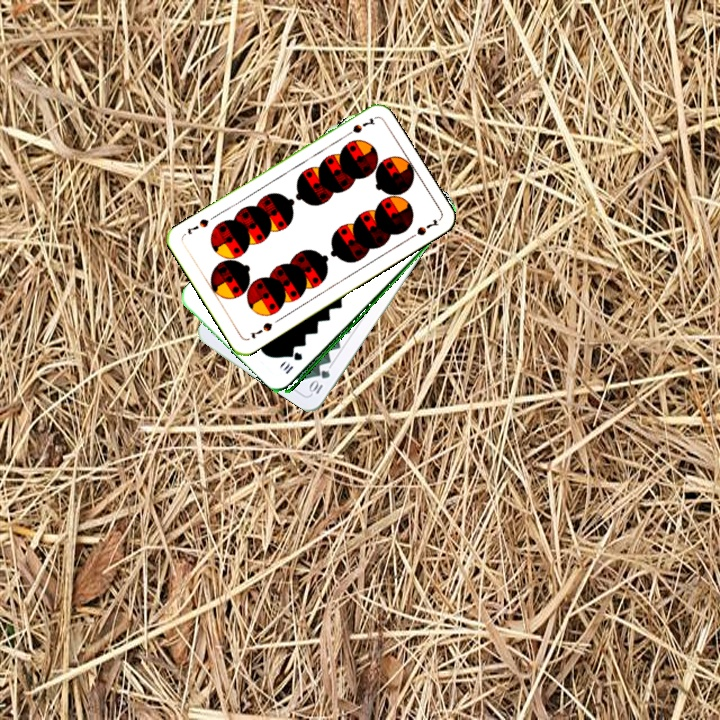G10: (305, 365, 333, 397), (279, 349, 305, 377)
S7: (340, 114, 378, 140), (246, 318, 275, 341)
